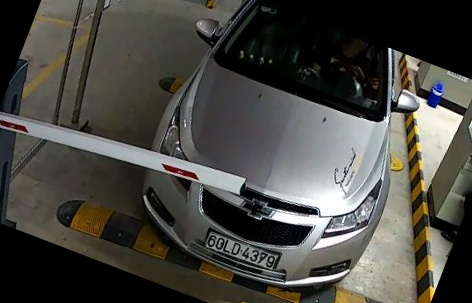plate: (202, 221, 284, 275)
